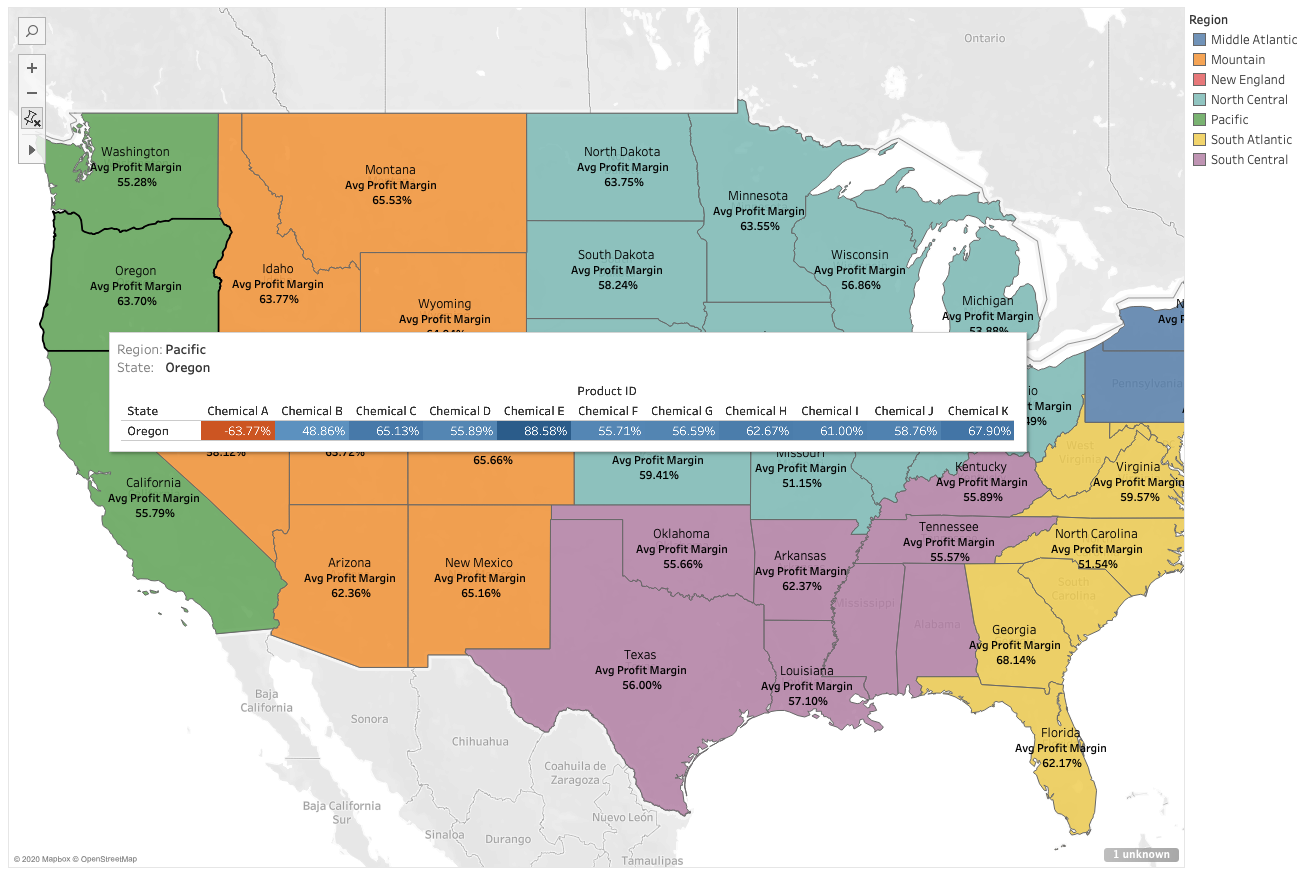

The dashboard page shown, as its layout file describes it:
{"tool":"tableau","page":{"name":"Revenue by State","canvas":[1000,1000],"units":"permille","ordinal":5},"visuals":[{"type":"worksheet","title":"Revenue by State(2)","mark":"Multipolygon","box":[4.7,8.1,990.6,983.8]}]}

Visuals, with their boxes on the dashboard's canvas, which has no fixed pixel size, in thousandths of its width and height (x1, y1, x2, y2). These are canvas units, not pixel positions in the 1313x879 screenshot, which may show the page scaled, cropped or inside an application window:
"Revenue by State(2)" worksheet (Multipolygon marks): pyautogui.locateOnScreen(5, 8, 995, 992)
